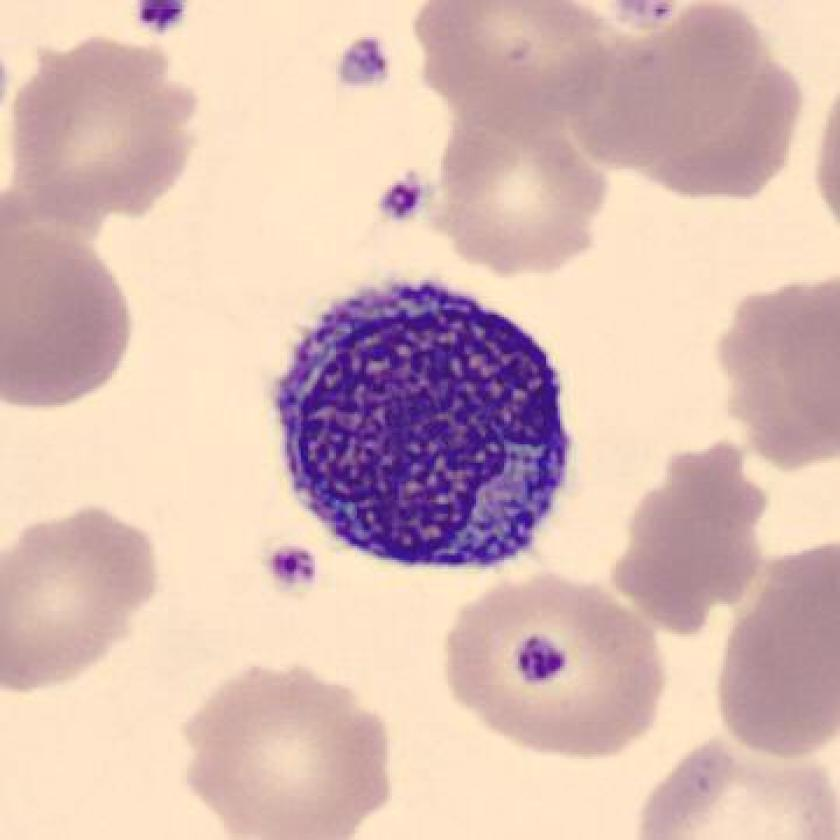monocyte: (255, 267, 594, 589)
